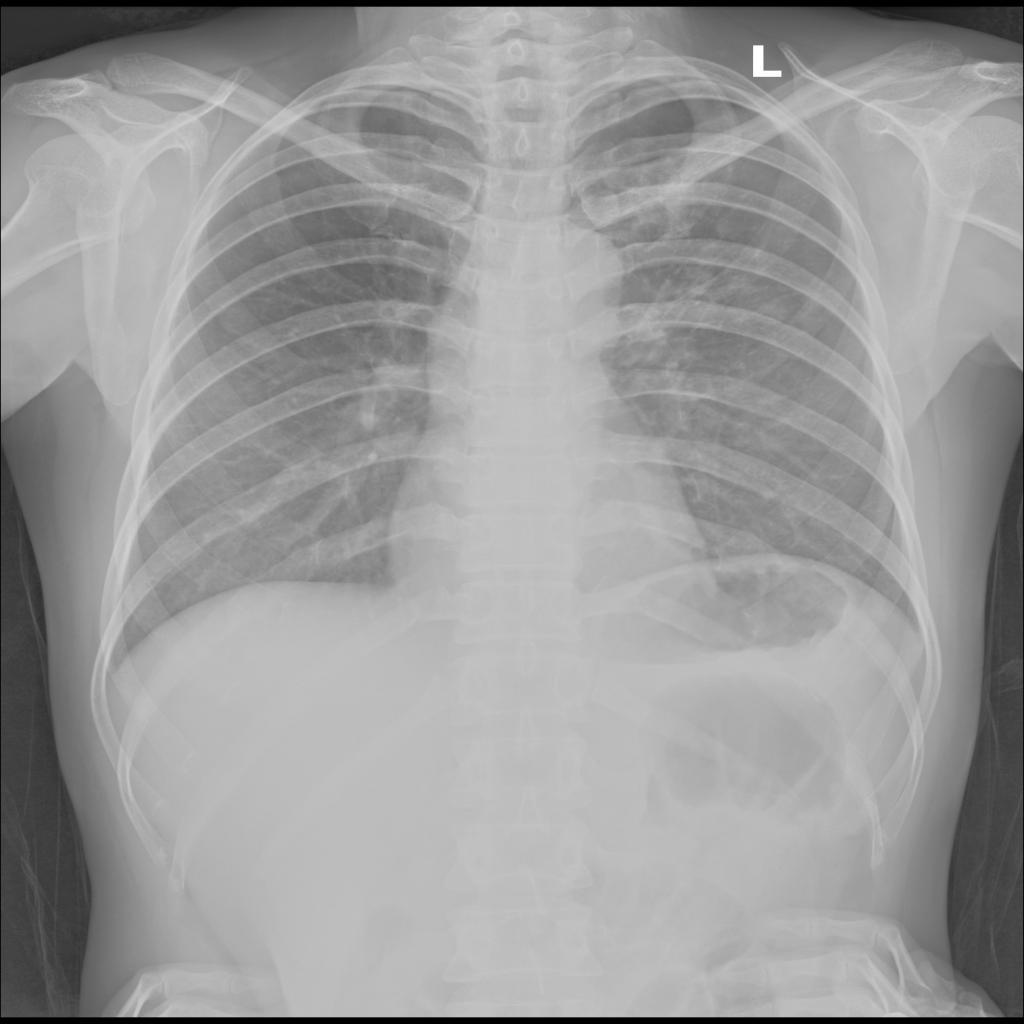Nodule: (756, 298, 787, 326)
